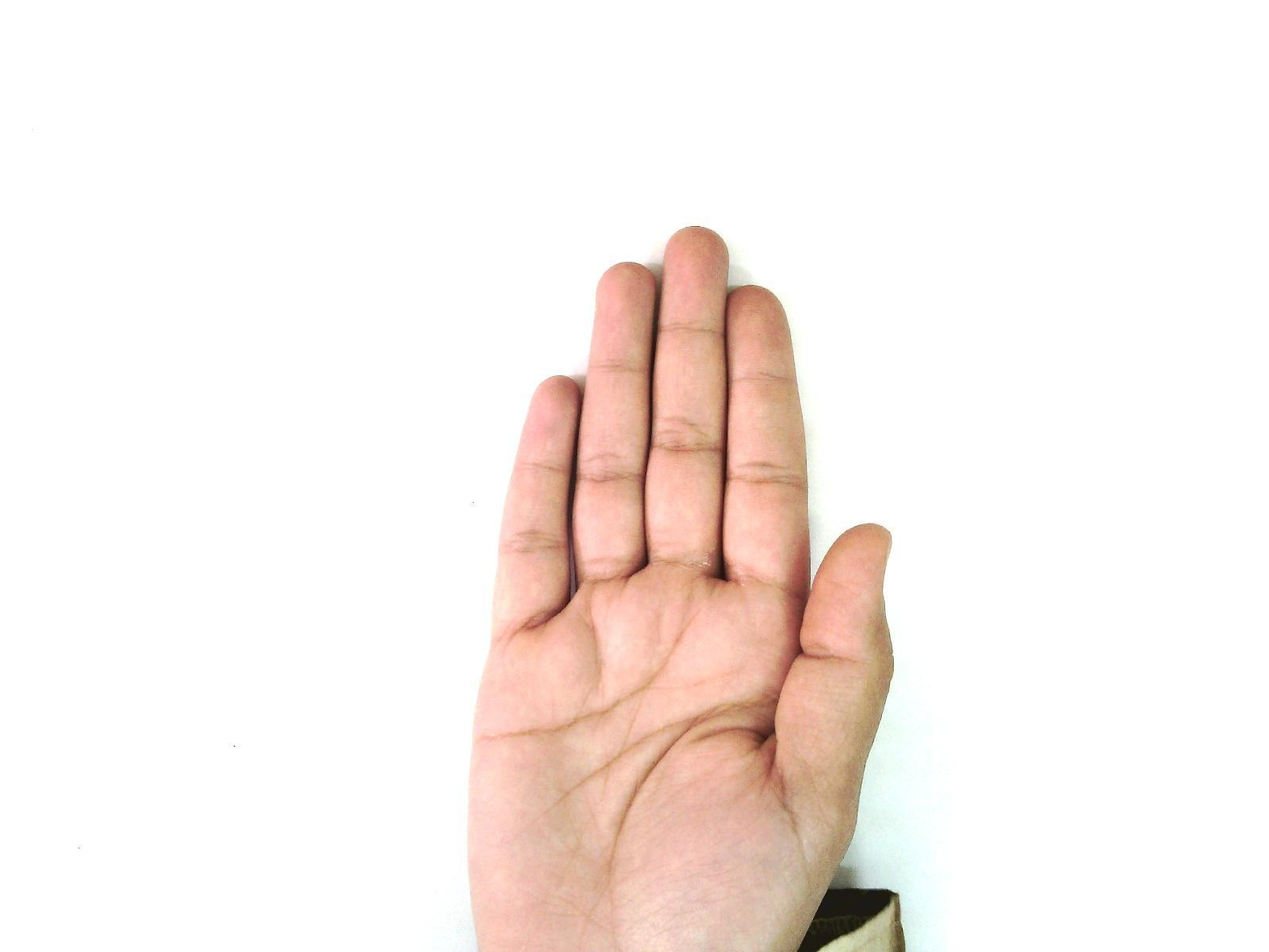open_palm: (463, 225, 900, 951)
